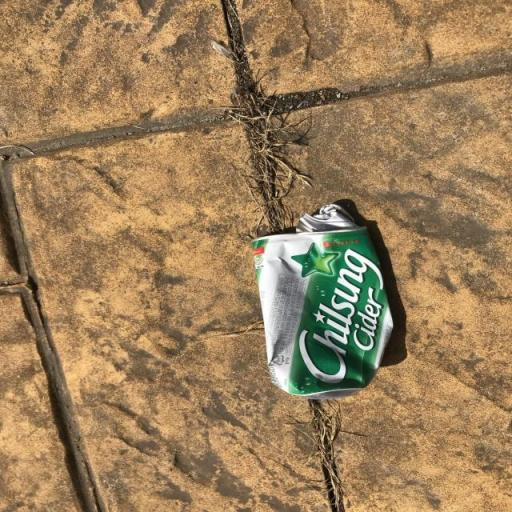metal: (225, 199, 427, 417)
